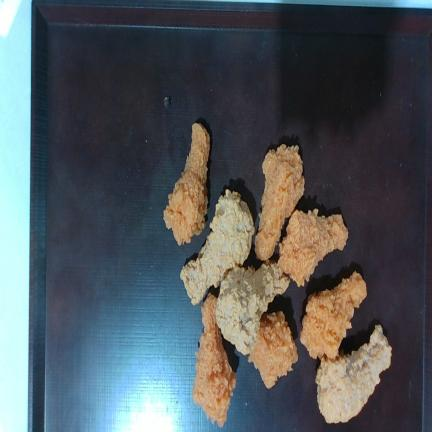chicken: (181, 190, 254, 304), (316, 325, 392, 422), (216, 261, 289, 355), (192, 293, 236, 427), (300, 271, 367, 358), (163, 123, 210, 245), (255, 144, 304, 260), (278, 209, 348, 286), (248, 311, 298, 388)
